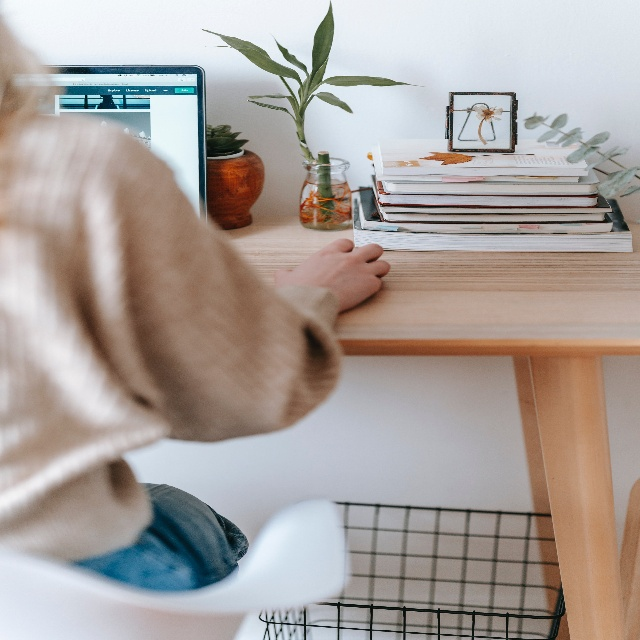Sin_guantes: (273, 238, 391, 312)
